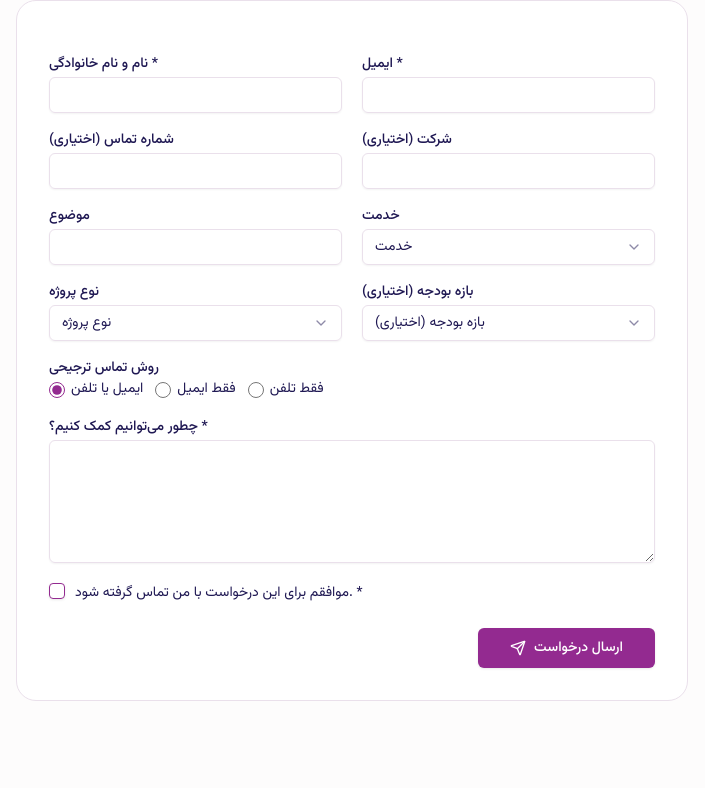
Test case: ContactForm › renders RTL-aware messages when the language is Persian
Step 1. Click the button "ارسال درخواست" → {"x": 566, "y": 648}, box x1=478 y1=628 x2=655 y2=668
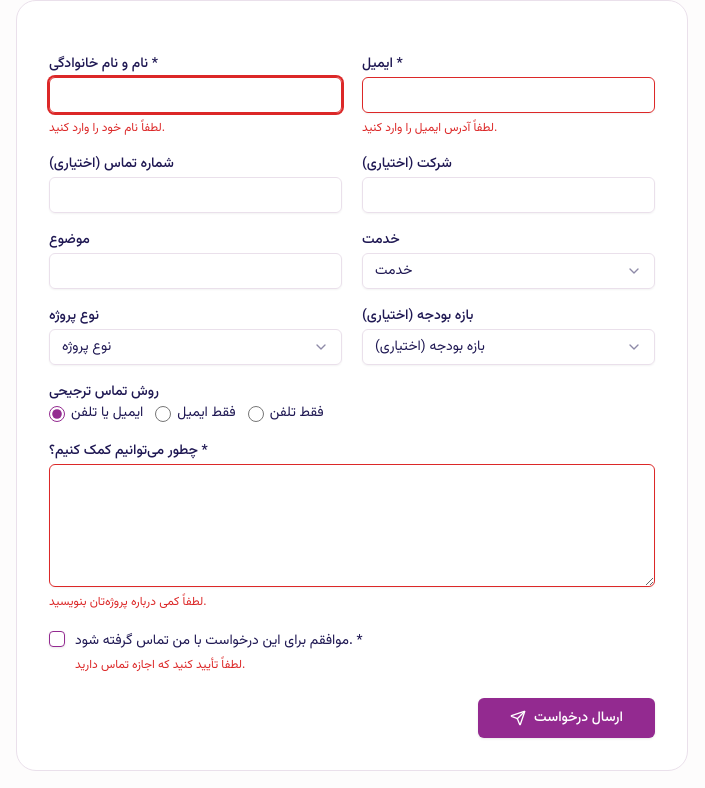
Result: the text "لطفاً نام خود را وارد کنید." is shown at x1=49 y1=119 x2=165 y2=137
